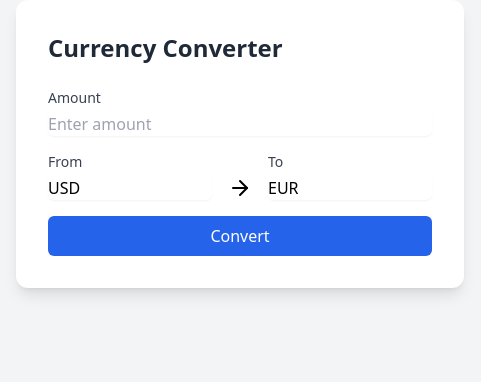
Test: CurrencyConverter › validates invalid currency codes
In the field with placeholder "USD" below "From": (130, 188) [48, 176, 212, 200], type "XXX"
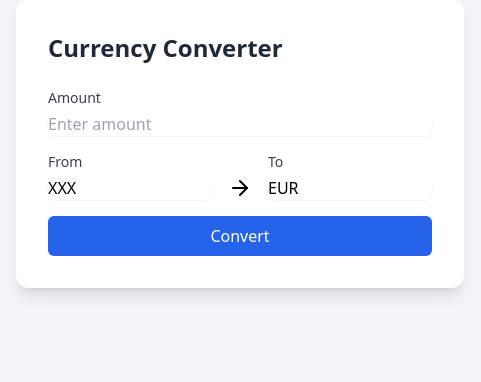
Click the button "Convert": (240, 236) [48, 216, 432, 256]
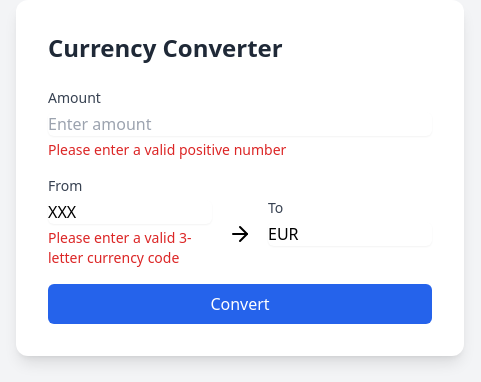
Check: the text "Please enter a valid 3-letter currency code" is shown, box [48, 228, 212, 268]
